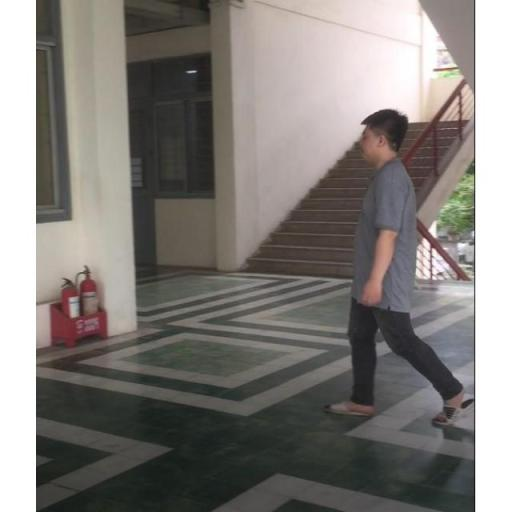Running: (324, 98, 474, 432)
